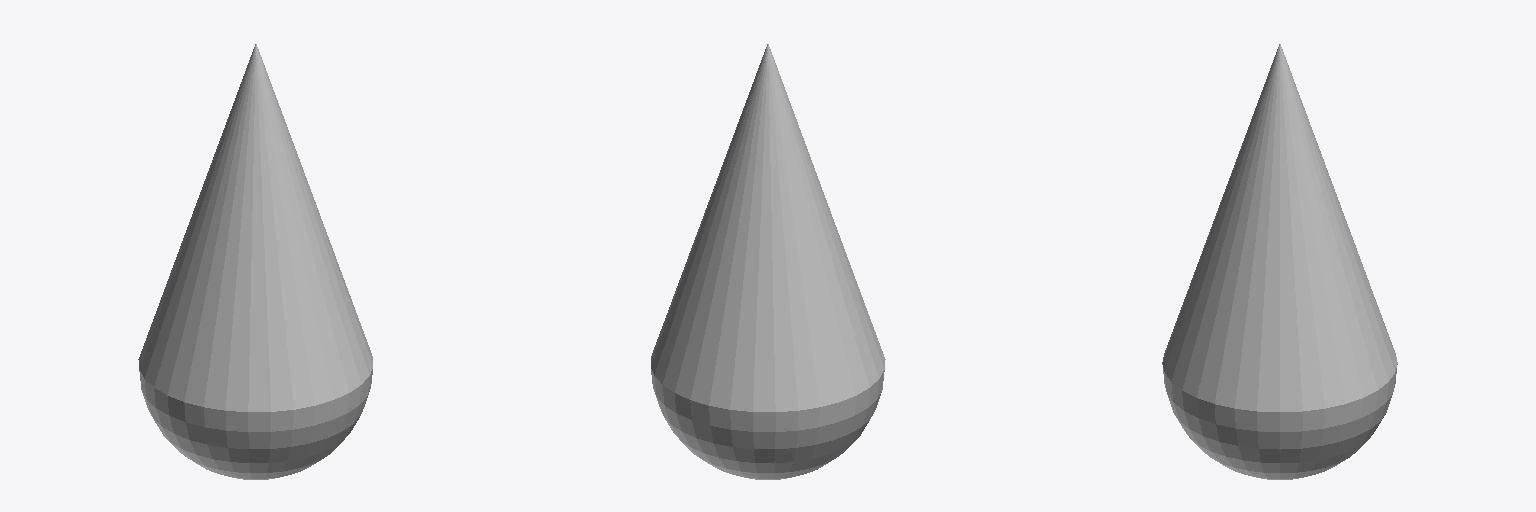
The model's file is 3d_cursor.obj.
3 renders of one model, left to right at view 1: azimuth 30°, elevation 25°; view 2: azimuth 150°, elevation 25°; view 3: azimuth 270°, elevation 25°, orthographic.
Parts seen in each view (by area): view 1: Sphere.001; view 2: Sphere.001; view 3: Sphere.001.
Boxes of the visible parts, box(x1,y1,x2,y2) form: Sphere.001: box(138, 44, 372, 479); Sphere.001: box(651, 44, 885, 479); Sphere.001: box(1162, 44, 1397, 479).
Size of the model in its own units: 2 by 4 by 2.